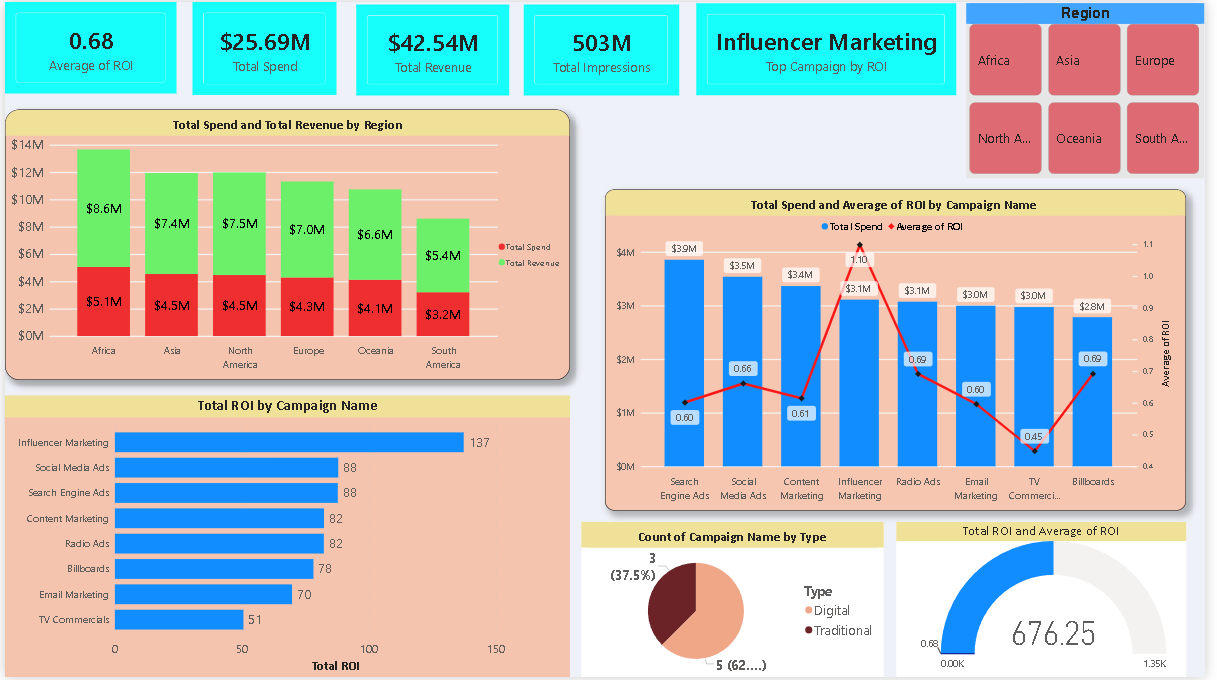

What the dashboard file says about the page in this screenshot:
{"tool":"powerbi","page":{"name":"Page 1","canvas":[1920,1080],"ordinal":0},"visuals":[{"type":"columnChart","fields":{"Category":["marketing campaign performance.Region"],"Y":["marketing campaign performance.Total Spend","marketing campaign performance.Total Revenue"]},"box":[0,171.2,903.7,432.5],"z":0},{"type":"lineClusteredColumnComboChart","fields":{"Category":["marketing campaign performance.Campaign Name"],"Y":["marketing campaign performance.Total Spend"],"Y2":["Avg(marketing campaign performance.ROI)"]},"box":[960.7,300,929.5,513.5],"z":1000},{"type":"barChart","fields":{"Category":["marketing campaign performance.Campaign Name"],"Y":["marketing campaign performance.Total ROI"]},"box":[0,630,904,450],"z":2000},{"type":"pieChart","fields":{"Category":["marketing campaign details.Type"],"Y":["CountNonNull(marketing campaign details.Campaign Name)"]},"box":[922.1,831.9,484.1,248.5],"z":3000},{"type":"gauge","fields":{"Y":["marketing campaign performance.Total ROI"],"TargetValue":["Avg(marketing campaign performance.ROI)"]},"box":[1426.4,831.9,463.8,248.5],"z":4000},{"type":"cardVisual","fields":{"Data":["Avg(marketing campaign performance.ROI)"]},"box":[0,0,274,146],"z":5000},{"type":"cardVisual","fields":{"Data":["marketing campaign performance.Total Impressions"]},"box":[830.1,3.7,248.5,145.4],"z":6000},{"type":"cardVisual","fields":{"Data":["marketing campaign performance.Total Revenue"]},"box":[561.4,3.7,244.8,145.4],"z":7000},{"type":"cardVisual","fields":{"Data":["marketing campaign performance.Total Spend"]},"box":[300,0,230.1,149.1],"z":8000},{"type":"cardVisual","fields":{"Data":["marketing campaign performance.Top Campaign by ROI"]},"box":[1106.1,1.8,416,147.2],"z":9000},{"type":"advancedSlicerVisual","fields":{"Values":["region performance.Region"]},"box":[1538.7,1.8,381,279.8],"z":10000}]}

Visuals, with their boxes in screenshot pixels (x1, y1, x2, y2), scaled from the page's 1920x1080 canvas onto the 1217x680 screenshot:
columnChart - marketing campaign performance.Region x marketing campaign performance.Total Spend: x1=0 y1=108 x2=573 y2=380
lineClusteredColumnComboChart - marketing campaign performance.Campaign Name x marketing campaign performance.Total Spend: x1=609 y1=189 x2=1198 y2=512
barChart - marketing campaign performance.Campaign Name x marketing campaign performance.Total ROI: x1=0 y1=397 x2=573 y2=679
pieChart - marketing campaign details.Type x CountNonNull(marketing campaign details.Campaign Name): x1=584 y1=524 x2=891 y2=679
gauge - marketing campaign performance.Total ROI x Avg(marketing campaign performance.ROI): x1=904 y1=524 x2=1198 y2=679
cardVisual - Avg(marketing campaign performance.ROI): x1=0 y1=0 x2=174 y2=92
cardVisual - marketing campaign performance.Total Impressions: x1=526 y1=2 x2=684 y2=94
cardVisual - marketing campaign performance.Total Revenue: x1=356 y1=2 x2=511 y2=94
cardVisual - marketing campaign performance.Total Spend: x1=190 y1=0 x2=336 y2=94
cardVisual - marketing campaign performance.Top Campaign by ROI: x1=701 y1=1 x2=965 y2=94
advancedSlicerVisual - region performance.Region: x1=975 y1=1 x2=1216 y2=177
